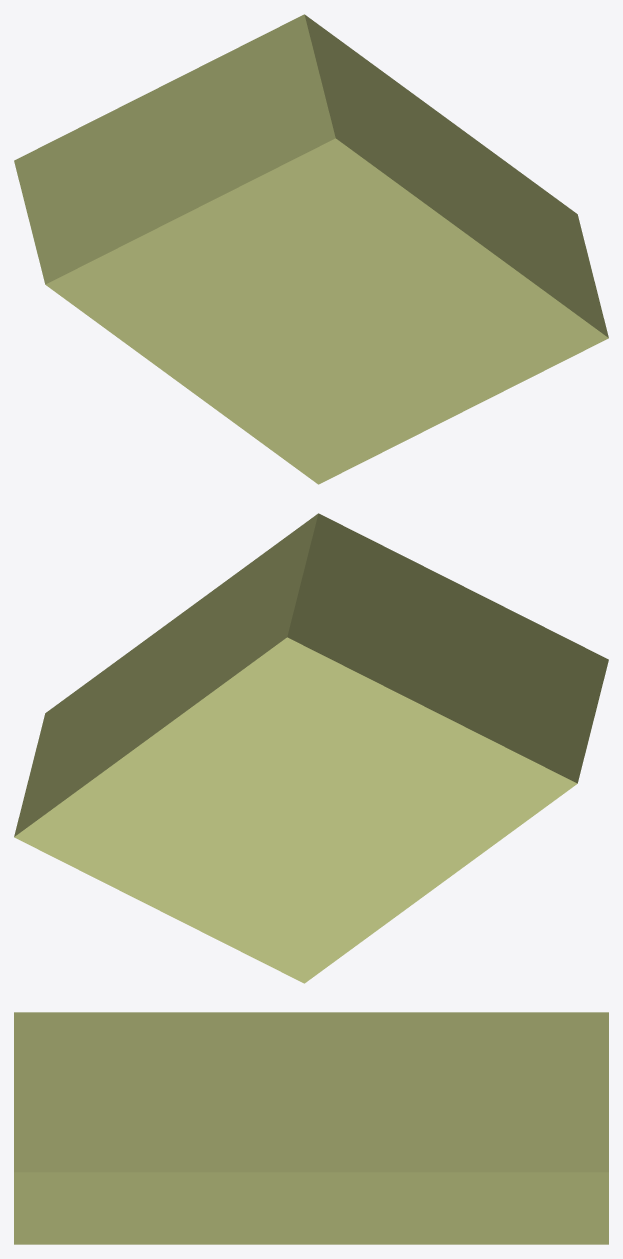
3 views of the same model, one above another, from view 1: azimuth 30°, elevation 25°; view 2: azimuth 150°, elevation 25°; view 3: azimuth 270°, elevation 25° (orthographic). The views are drawn at different scales.
Parts seen in each view (by area): view 1: 0_1_2_0_0_2_2_0_2_1_3_1; view 2: 0_1_2_0_0_2_2_0_2_1_3_1; view 3: 0_1_2_0_0_2_2_0_2_1_3_1.
Part boxes in pixels (x1,y1,x2,y2): 0_1_2_0_0_2_2_0_2_1_3_1: [14, 14, 608, 484]; 0_1_2_0_0_2_2_0_2_1_3_1: [14, 513, 608, 983]; 0_1_2_0_0_2_2_0_2_1_3_1: [14, 1012, 608, 1244].
Bounding box in the file's own units: 6.12 × 3.77 × 9.
